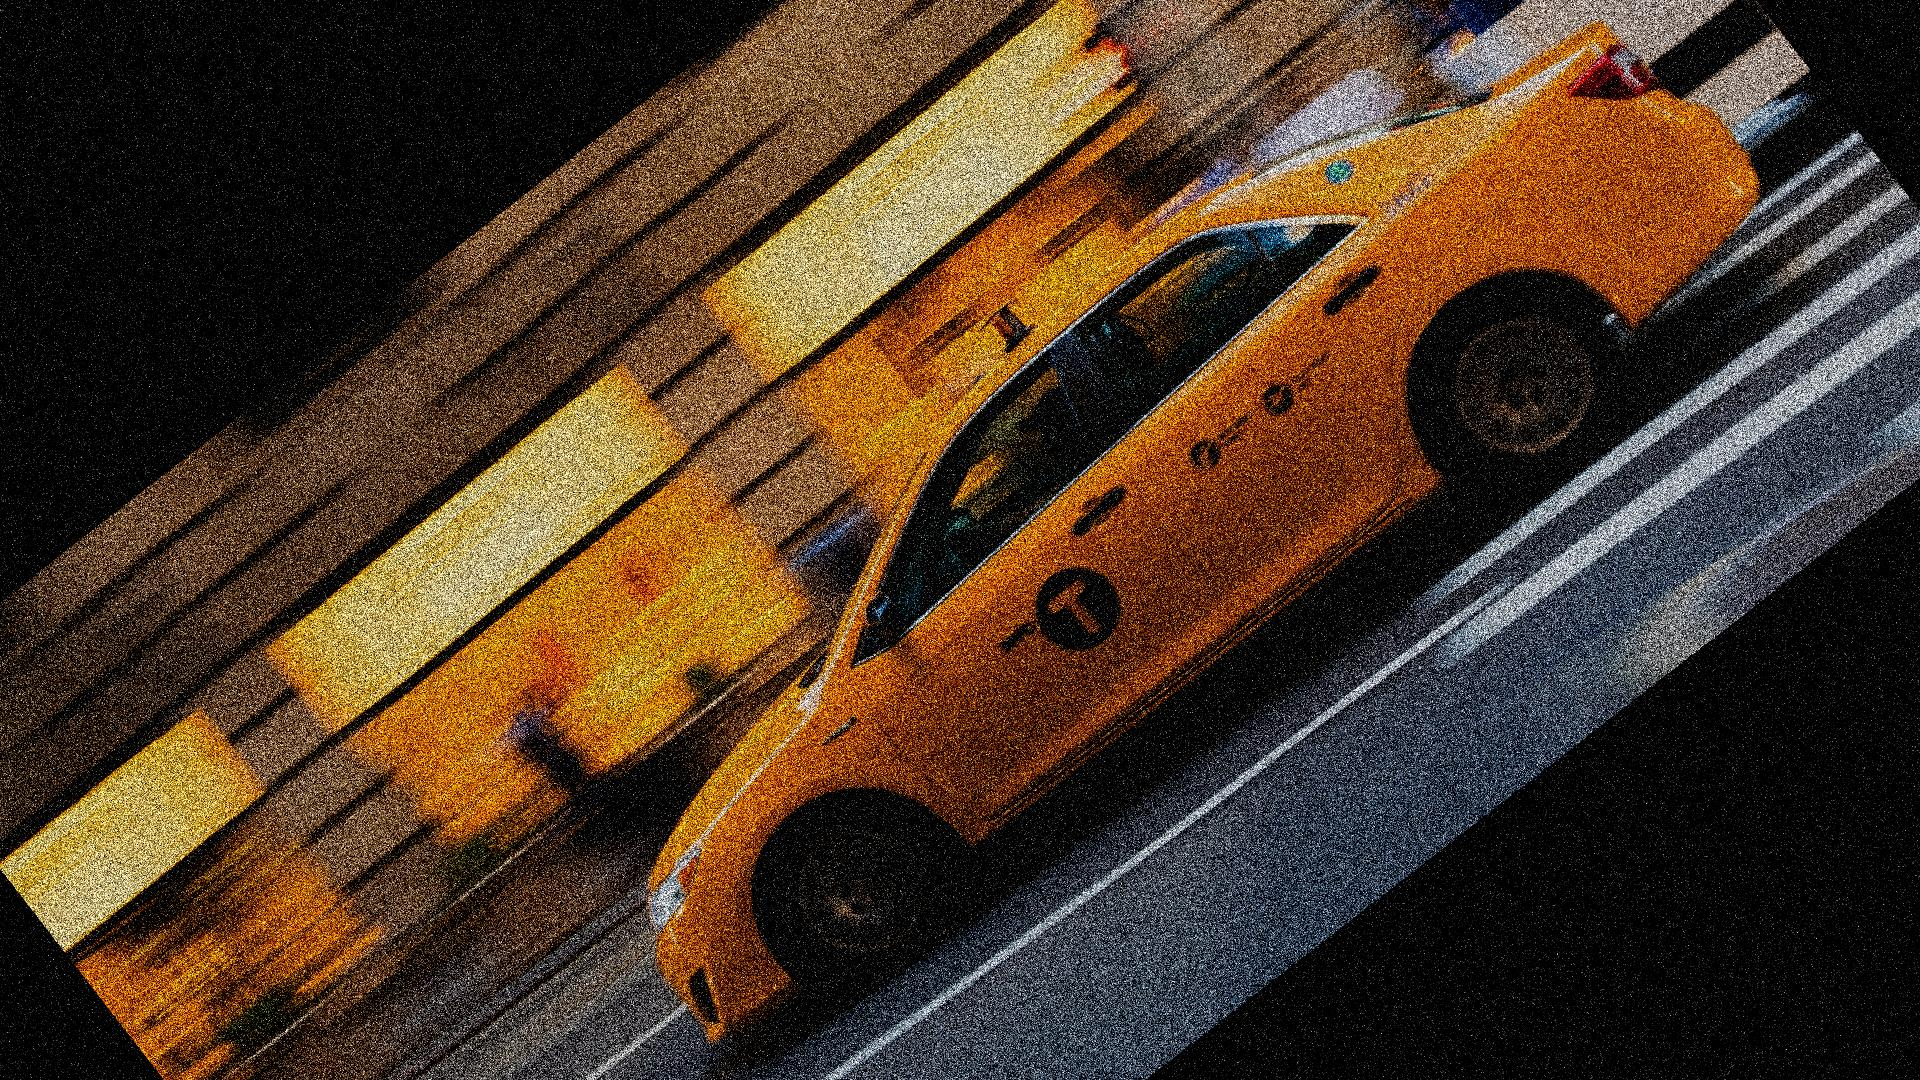taxi: (661, 17, 1750, 1040)
